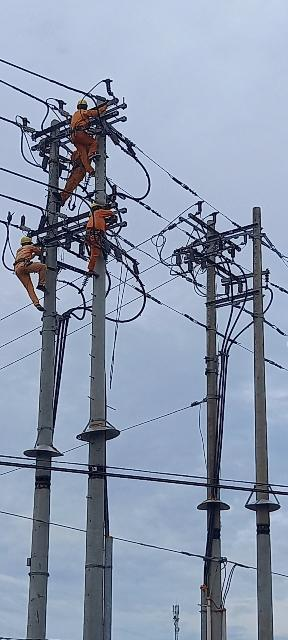harness: (81, 226, 104, 240), (6, 255, 34, 266), (68, 124, 89, 135)
helmet: (15, 235, 33, 245), (87, 201, 104, 211), (76, 97, 88, 110)
shoes: (51, 187, 65, 203), (88, 269, 102, 279), (37, 283, 49, 293), (88, 154, 103, 161), (35, 304, 46, 313), (91, 171, 97, 178)
